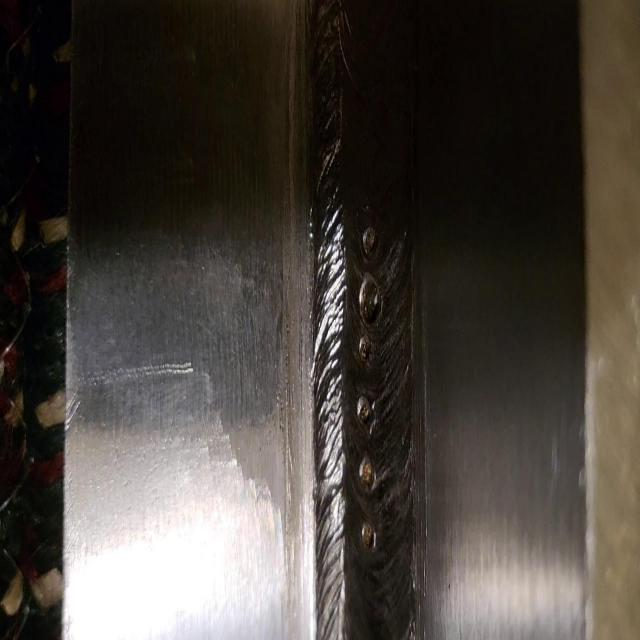Welding Line: (308, 7, 416, 640)
Workpiece: (71, 3, 640, 640)
porosity: (358, 220, 382, 492)
